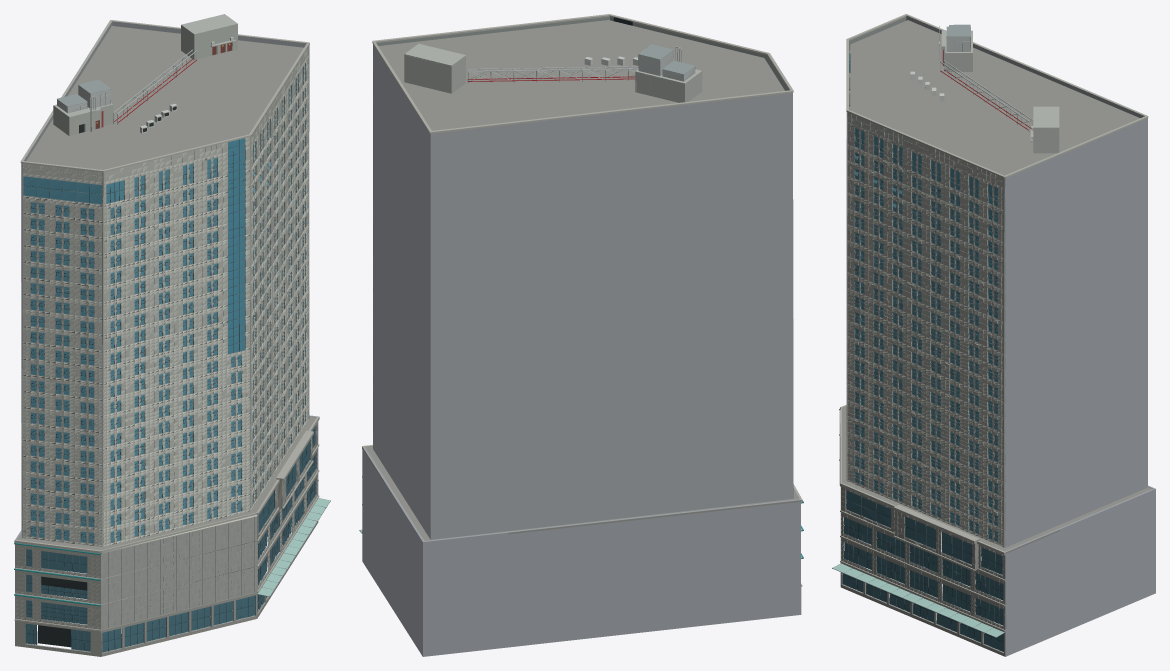
The model's file is light.glb.
The picture shows the model from 3 angles, left to right: view 1: azimuth 30°, elevation 25°; view 2: azimuth 150°, elevation 25°; view 3: azimuth 270°, elevation 25°; orthographic projection. The views are drawn at different scales.
Visible parts, largest first — view 1: LEFT_RETURN stone panels, Podium roof ledge plate, LEFT_RETURN glazing 0, LEFT_RETURN window aluminium and transoms, LEFT_RETURN aperture wall substrate, PODIUM_0 panel walls, PODIUM_0 glazing, PODIUM_0 floor cornices, LEFT_RETURN recessed interior shadow, STREET_CORNER blue band, S02 chamfer fine stone panels 1, S05 left service shell with front omissions (+10 smaller); view 2: REAR_UNSEEN neutral closure NO FENESTRATION, Podium roof ledge plate, S05 left service shell with front omissions, PODIUM_0 floor cornices, LEFT_RETURN aperture wall substrate, S05 left tall silver envelope, S05 left tall silver raised grid; view 3: REAR_UNSEEN neutral closure NO FENESTRATION, LEFT_RETURN stone panels, Podium roof ledge plate, LEFT_RETURN glazing 0, PODIUM_0 glazing, LEFT_RETURN aperture wall substrate, LEFT_RETURN window aluminium and transoms, PODIUM_0 panel walls, PODIUM_0 floor cornices, S05 left service shell with front omissions, LEFT_RETURN recessed interior shadow, S03 continuous transparent long canopy panels (+3 smaller).
Boxes of the visible parts, <box> form: LEFT_RETURN stone panels: <box>21,45,309,547</box>; Podium roof ledge plate: <box>17,26,316,550</box>; LEFT_RETURN glazing 0: <box>23,64,305,543</box>; LEFT_RETURN window aluminium and transoms: <box>24,63,305,543</box>; LEFT_RETURN aperture wall substrate: <box>20,67,316,627</box>; PODIUM_0 panel walls: <box>15,423,318,656</box>; PODIUM_0 glazing: <box>25,426,316,652</box>; PODIUM_0 floor cornices: <box>14,20,319,631</box>; LEFT_RETURN recessed interior shadow: <box>24,85,314,650</box>; STREET_CORNER blue band: <box>227,138,244,353</box>; S02 chamfer fine stone panels 1: <box>101,517,256,628</box>; S05 left service shell with front omissions: <box>53,14,237,135</box>; REAR_UNSEEN neutral closure NO FENESTRATION: <box>362,44,800,656</box>; Podium roof ledge plate: <box>362,20,800,540</box>; S05 left service shell with front omissions: <box>404,43,702,102</box>; PODIUM_0 floor cornices: <box>362,14,802,586</box>; LEFT_RETURN aperture wall substrate: <box>362,17,788,532</box>; S05 left tall silver envelope: <box>468,46,695,81</box>; S05 left tall silver raised grid: <box>467,44,695,83</box>; REAR_UNSEEN neutral closure NO FENESTRATION: <box>906,16,1155,656</box>; LEFT_RETURN stone panels: <box>846,112,1004,547</box>; Podium roof ledge plate: <box>842,20,1151,553</box>; LEFT_RETURN glazing 0: <box>849,53,997,541</box>; PODIUM_0 glazing: <box>842,490,1003,651</box>; LEFT_RETURN aperture wall substrate: <box>843,17,1006,628</box>; LEFT_RETURN window aluminium and transoms: <box>849,61,997,542</box>; PODIUM_0 panel walls: <box>840,486,1005,656</box>; PODIUM_0 floor cornices: <box>839,14,1148,631</box>; S05 left service shell with front omissions: <box>941,30,1059,153</box>; LEFT_RETURN recessed interior shadow: <box>845,54,1003,642</box>; S03 continuous transparent long canopy panels: <box>833,563,1004,636</box>.
Bounding box in the file's own units: 78.95 × 107 × 61.78.
31 materials, 5 textured.
